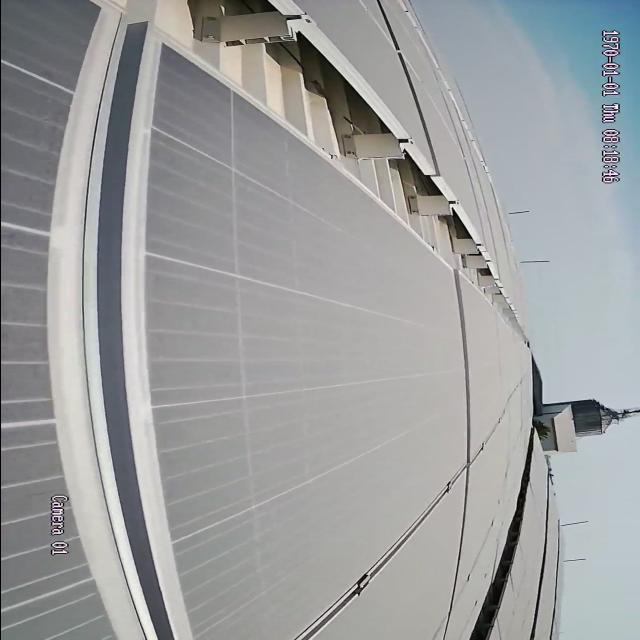interior panel: (36, 21, 190, 635), (295, 435, 485, 638)
outher panel: (111, 8, 522, 332), (466, 490, 525, 640)
